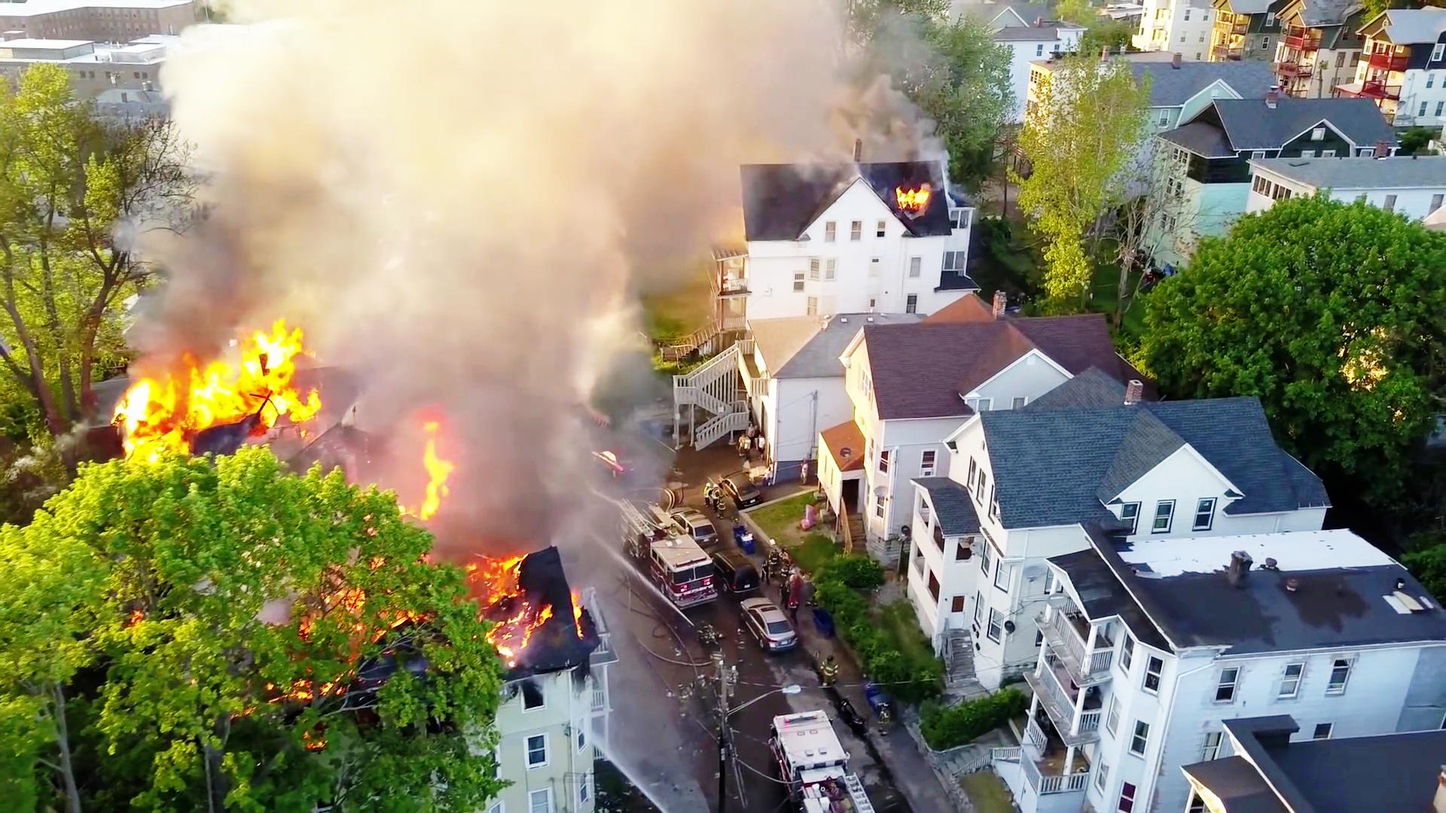fire: (108, 330, 309, 448), (475, 540, 575, 648), (411, 414, 458, 539)
smoke: (336, 2, 591, 396)
